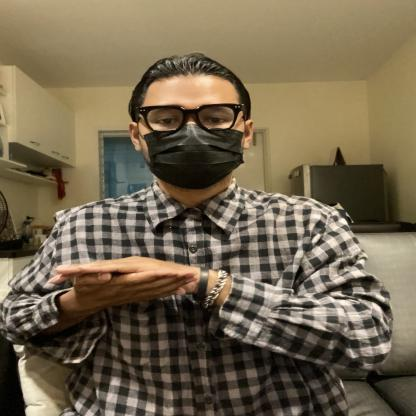Love: (17, 228, 259, 357)
